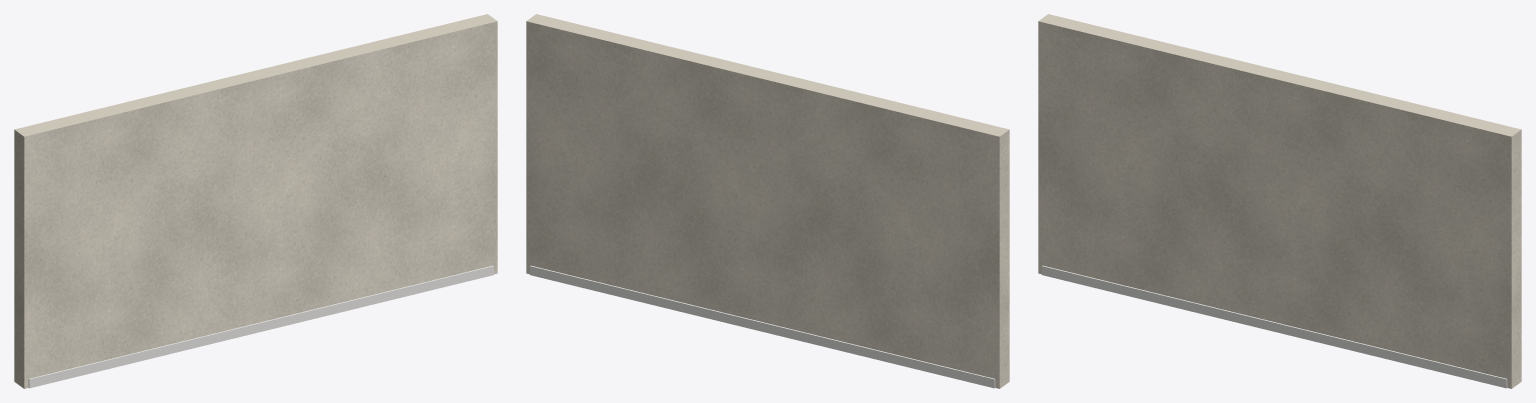
The model's file is party_wall.glb.
The picture shows the model from 3 angles, left to right: view 1: azimuth 30°, elevation 25°; view 2: azimuth 150°, elevation 25°; view 3: azimuth 330°, elevation 25°; orthographic projection.
Parts seen in each view (by area): view 1: party_wall_plaster, party_wall_trim; view 2: party_wall_plaster, party_wall_trim; view 3: party_wall_plaster, party_wall_trim.
Boxes of the visible parts, x1,y1,x2,y2 form: party_wall_plaster: [14, 14, 497, 388]; party_wall_trim: [28, 265, 493, 388]; party_wall_plaster: [526, 14, 1009, 388]; party_wall_trim: [530, 265, 995, 388]; party_wall_plaster: [1038, 14, 1521, 388]; party_wall_trim: [1042, 265, 1507, 388].
Bounding box in the file's own units: 5.5 × 2.8 × 0.23.
2 materials, 1 textured.
